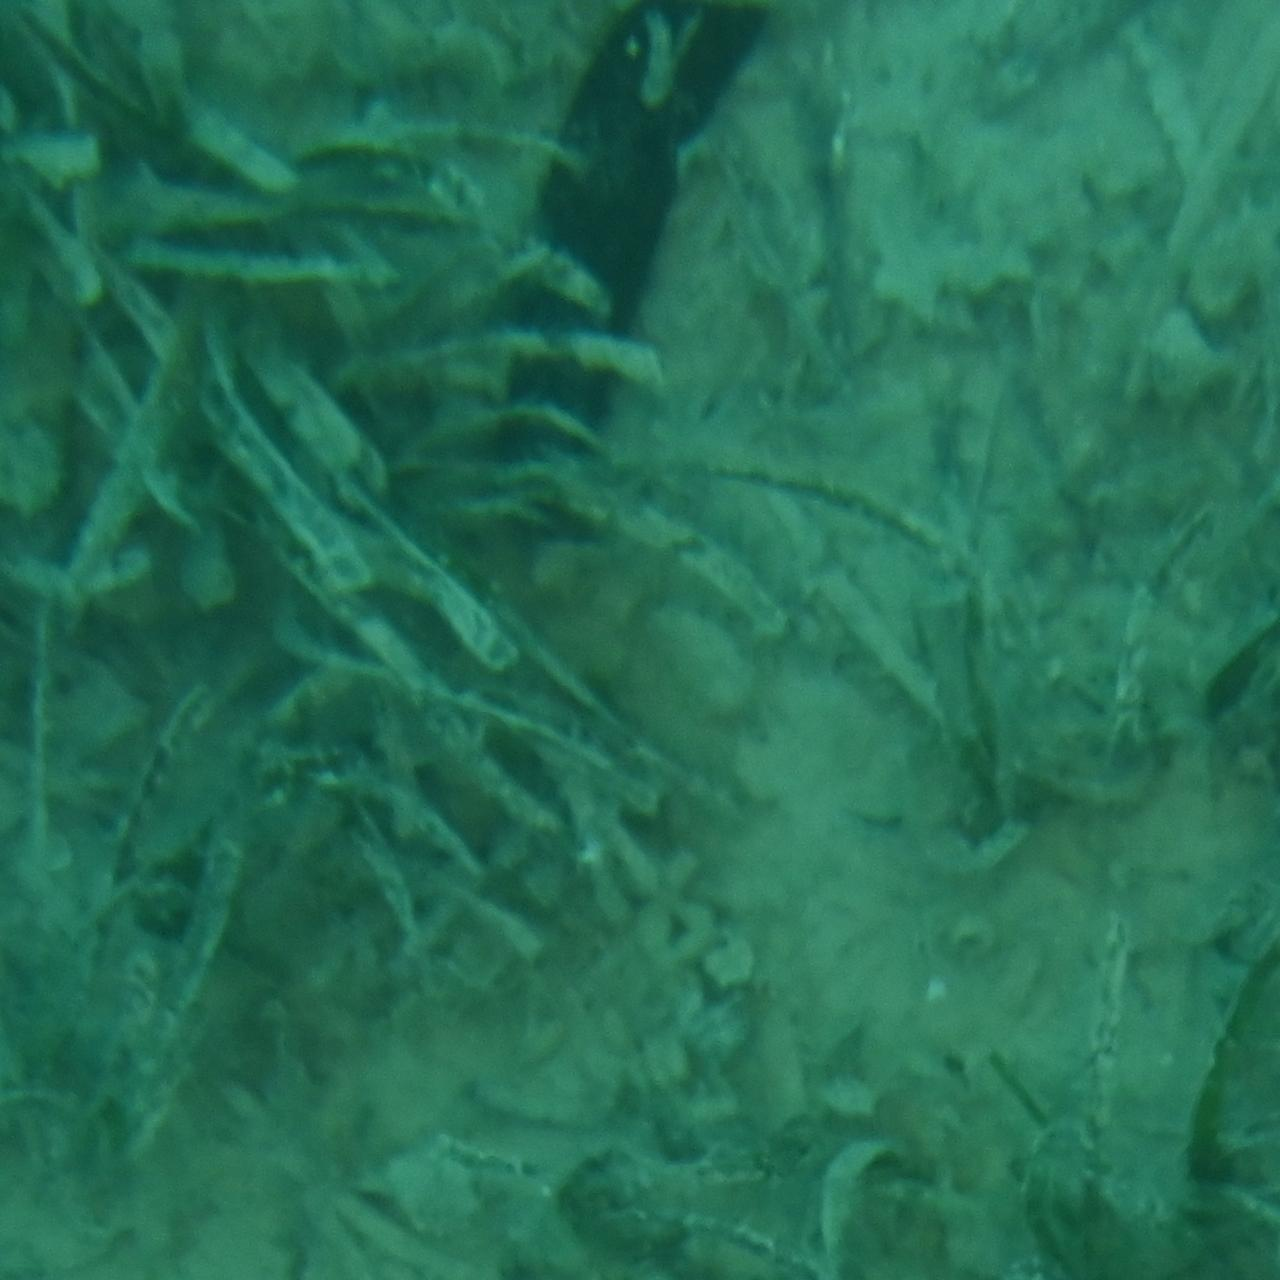Holothuria tubulosa: (486, 0, 794, 565)
